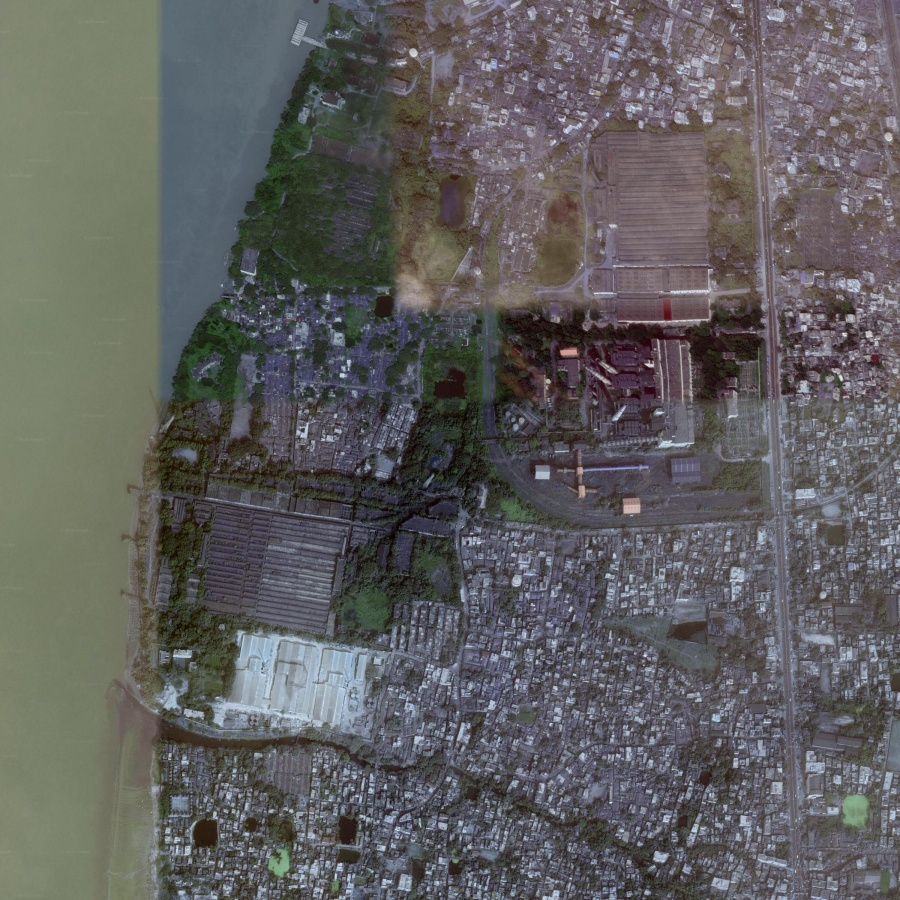PowerPlant: (489, 274, 734, 513)
